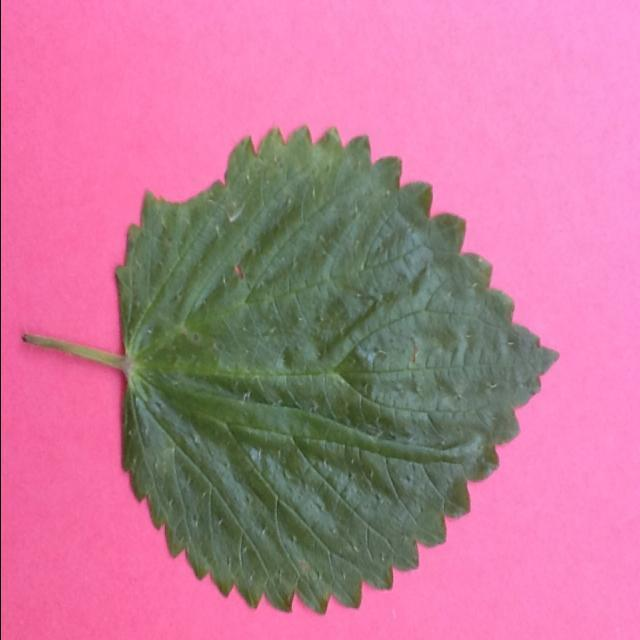foliage: (23, 115, 560, 616)
